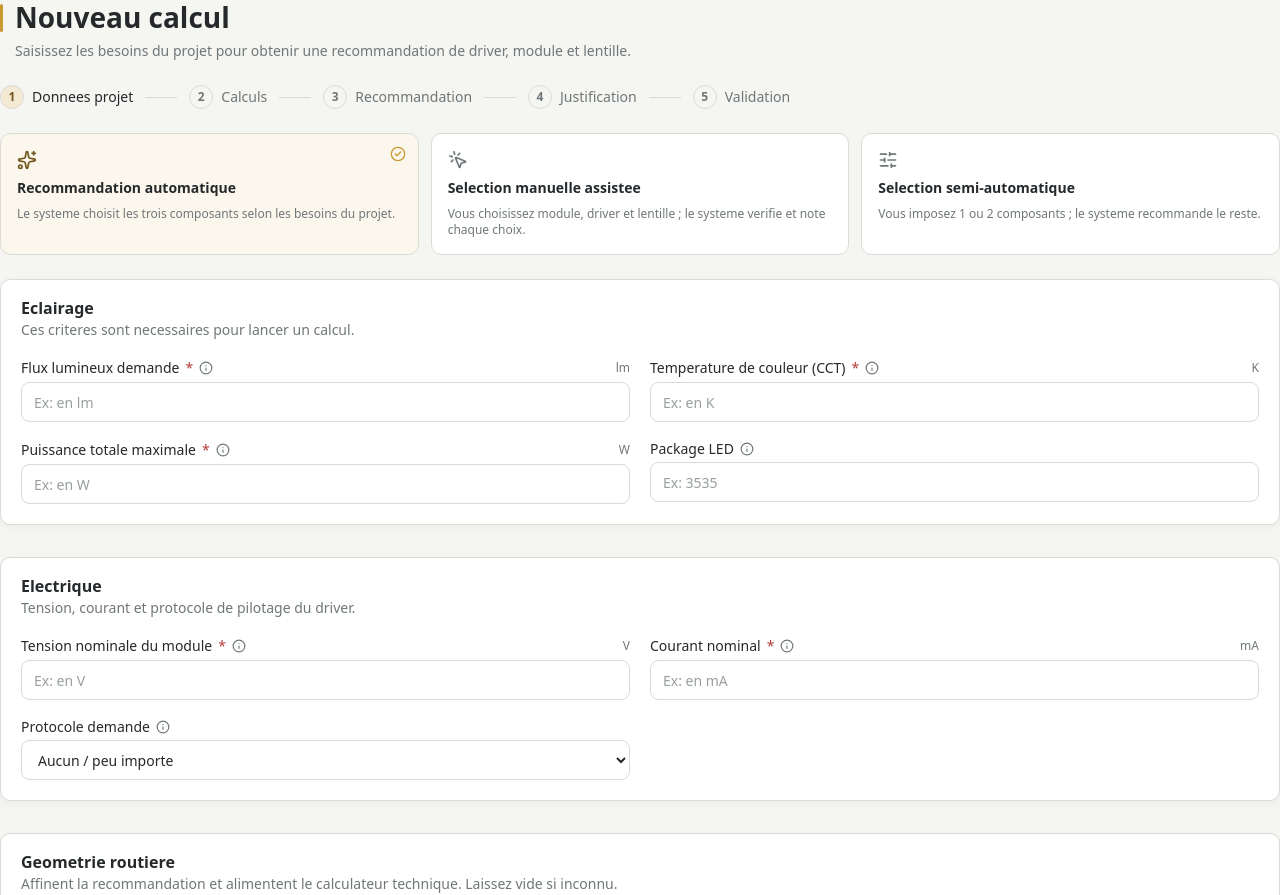
Test: NewCalculationPage › bascule vers la selection manuelle assistee quand on clique sur la carte correspondante
The width and height of the screenshot is (1280, 895).
What coordinates should you click on to do the following:
click the button "Selection manuelle assistee"
I would click on:
 (640, 194)
Its box is left=431, top=133, right=849, bottom=255.
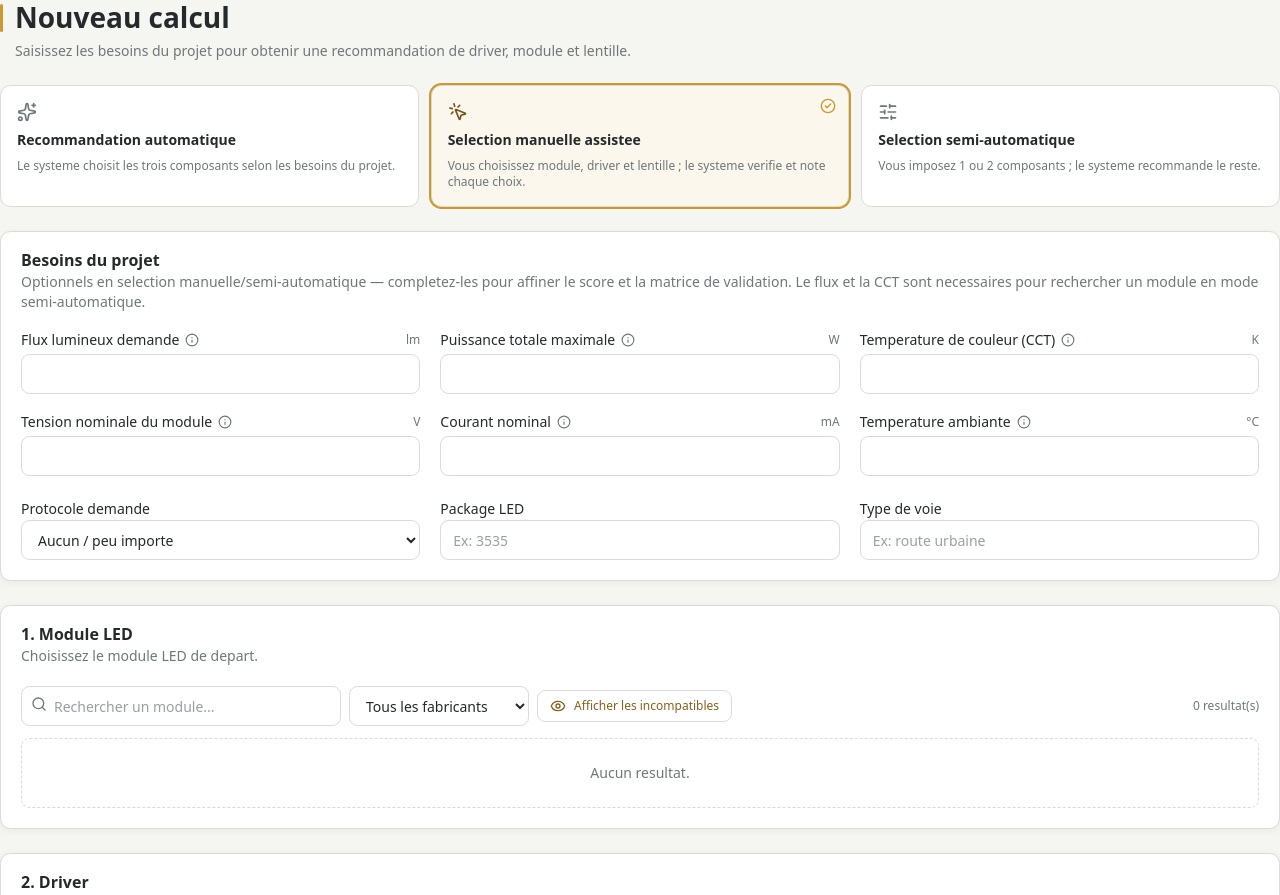
expect the heading "1. Module LED" is shown: met, box left=21, top=623, right=133, bottom=645
